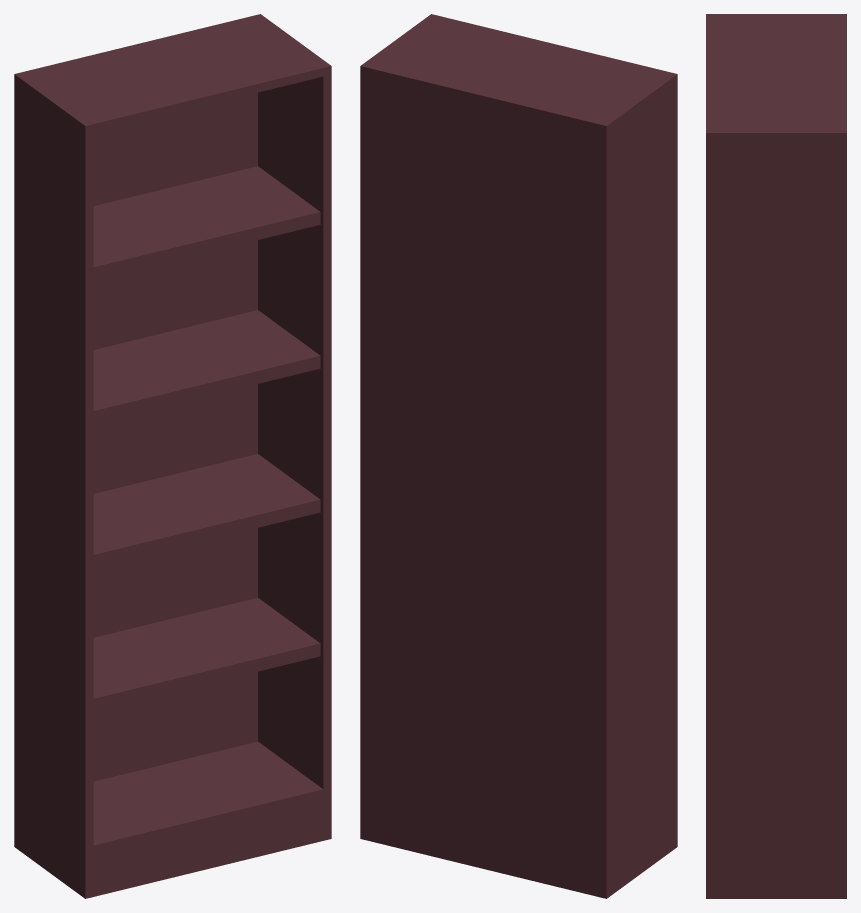
Rendered from furniture-library-modern-empty.glb.
3 renders of one model, left to right at view 1: azimuth 30°, elevation 25°; view 2: azimuth 150°, elevation 25°; view 3: azimuth 270°, elevation 25°, orthographic.
Visible parts, largest first — view 1: library-modern-empty; view 2: library-modern-empty; view 3: library-modern-empty.
Part boxes in pixels (left/top/right/bottom): library-modern-empty: left=14, top=14, right=331, bottom=898; library-modern-empty: left=360, top=14, right=677, bottom=898; library-modern-empty: left=706, top=14, right=846, bottom=898.
Bounding box in the file's own units: 0.6003 × 1.8 × 0.3.
